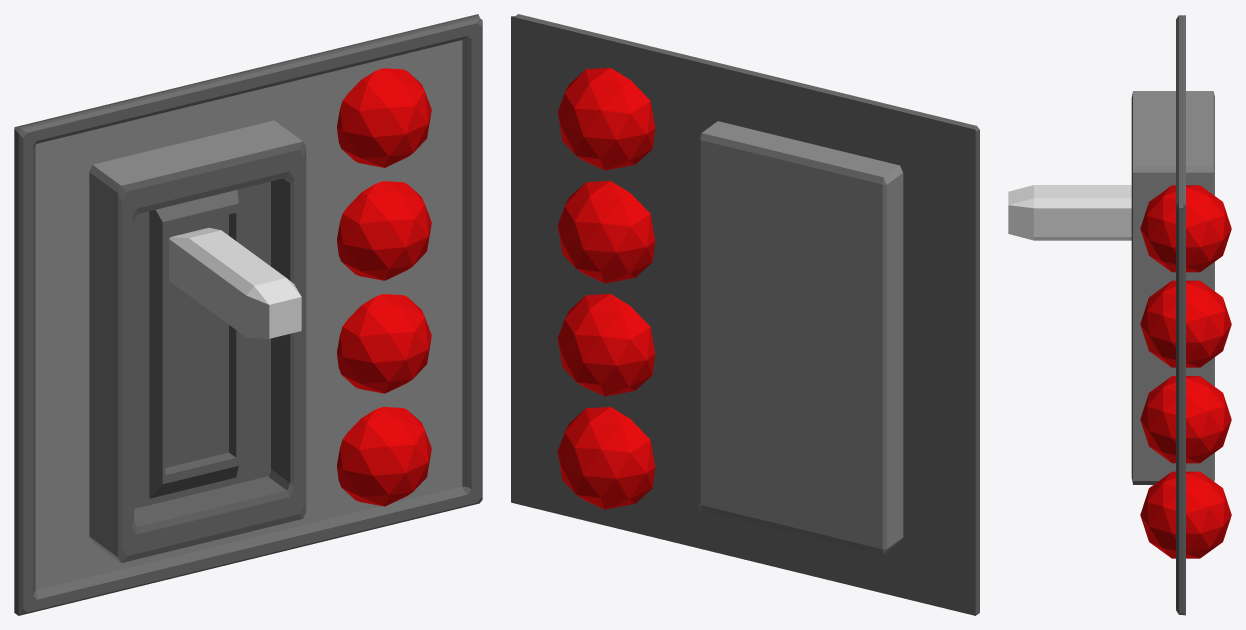
The model's file is switch.fbx.
The picture shows the model from 3 angles, left to right: view 1: azimuth 30°, elevation 25°; view 2: azimuth 150°, elevation 25°; view 3: azimuth 270°, elevation 25°; orthographic projection. The views are drawn at different scales.
Parts seen in each view (by area): view 1: Plane, Cube, Icosphere, Cube.001; view 2: Plane, Cube, Icosphere; view 3: Icosphere, Cube, Cube.001, Plane.
Boxes of the visible parts, bbox=[...] form: Plane: bbox=[14, 14, 482, 615]; Cube: bbox=[89, 120, 306, 562]; Icosphere: bbox=[337, 68, 431, 506]; Cube.001: bbox=[169, 227, 301, 338]; Plane: bbox=[511, 14, 979, 615]; Cube: bbox=[698, 121, 903, 554]; Icosphere: bbox=[557, 68, 655, 509]; Icosphere: bbox=[1140, 185, 1231, 558]; Cube: bbox=[1131, 91, 1214, 484]; Cube.001: bbox=[1008, 185, 1131, 240]; Plane: bbox=[1176, 15, 1185, 615].
Bounding box in the file's own units: 200 × 200 × 98.74.
